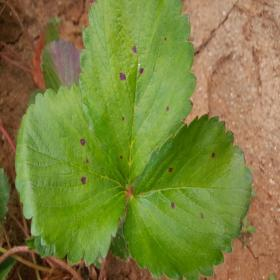Leaf Spot: (122, 112, 254, 279), (79, 0, 196, 187), (14, 81, 128, 268)
